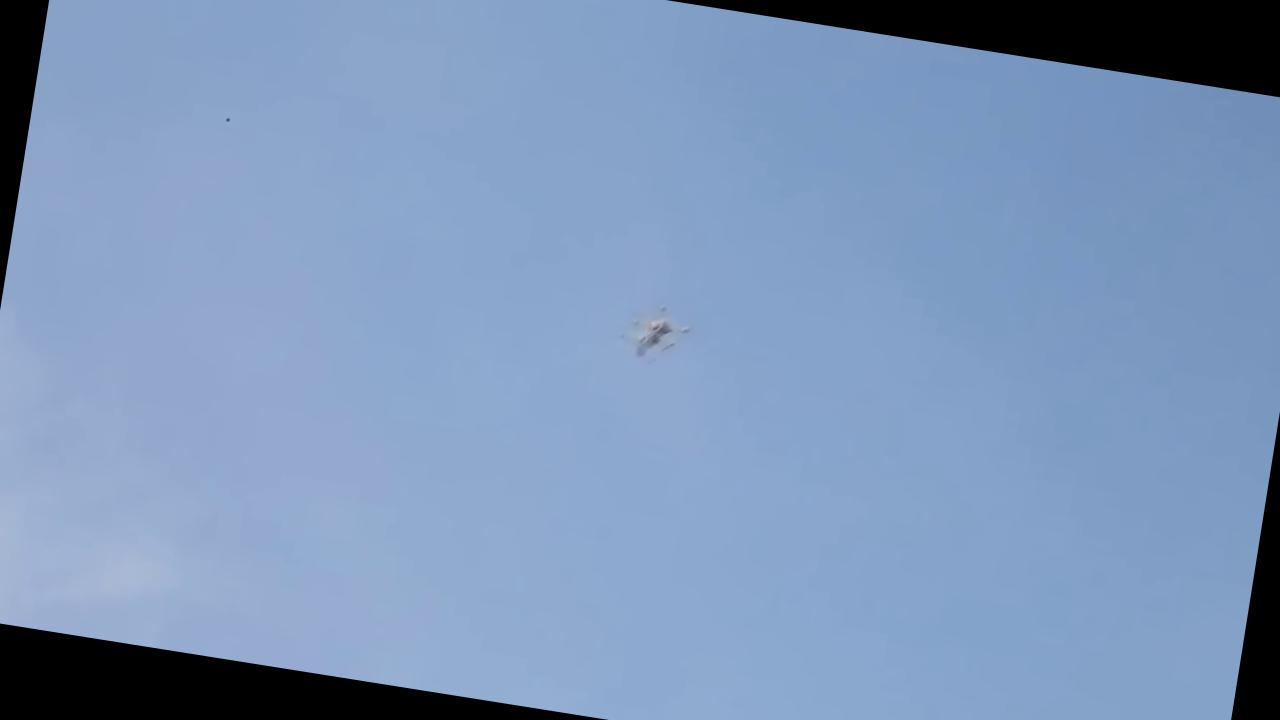drone: (612, 300, 696, 369)
